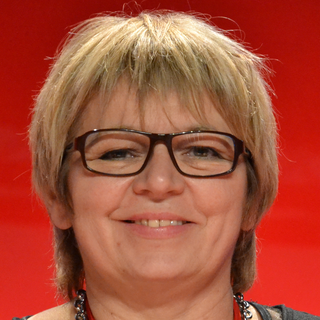eye: (92, 141, 143, 172), (175, 141, 227, 165)
